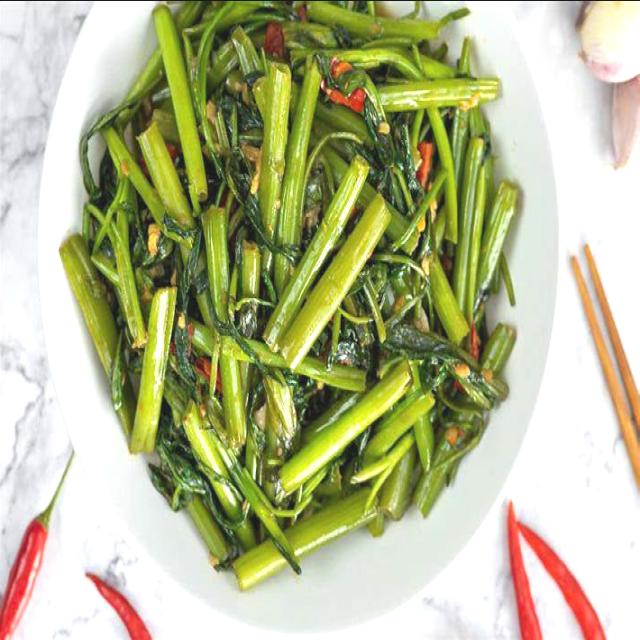tumis kangkung: (60, 12, 517, 590)
